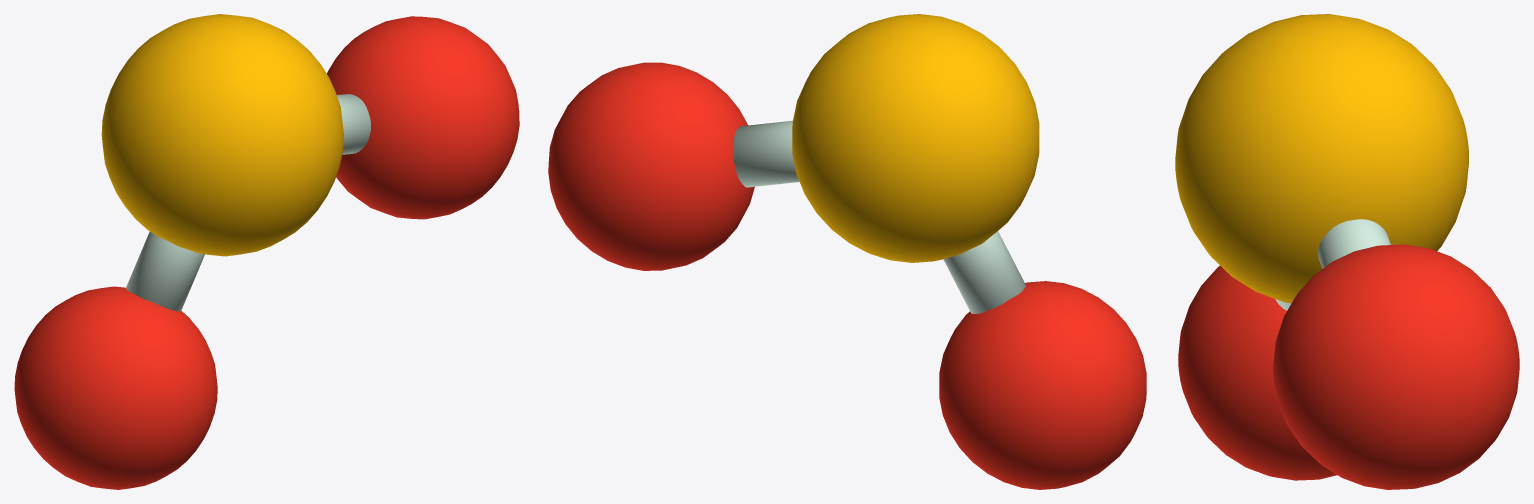
File: compoundModel2.glb
3 views of the same model, side by side, from view 1: azimuth 30°, elevation 25°; view 2: azimuth 150°, elevation 25°; view 3: azimuth 270°, elevation 25° (orthographic). The views are drawn at different scales.
Visible parts, largest first — view 1: Oxygen, Hydrogen.001, Hydrogen.000, connection.001, connection.000; view 2: Oxygen, Hydrogen.001, Hydrogen.000, connection.001, connection.000; view 3: Oxygen, Hydrogen.000, Hydrogen.001, connection.000.
Boxes of the visible parts, x1,y1,x2,y2 form: Oxygen: (101,14,343,256); Hydrogen.001: (14,286,217,489); Hydrogen.000: (327,16,519,219); connection.001: (126,231,204,311); connection.000: (337,94,370,154); Oxygen: (792,14,1039,262); Hydrogen.001: (939,281,1146,489); Hydrogen.000: (548,62,754,270); connection.001: (943,231,1025,313); connection.000: (733,120,799,187); Oxygen: (1175,14,1468,303); Hydrogen.000: (1273,244,1519,489); Hydrogen.001: (1178,266,1337,480); connection.000: (1318,219,1390,268).
Bounding box in the file's own units: 2.05 × 1.59 × 0.9758.
